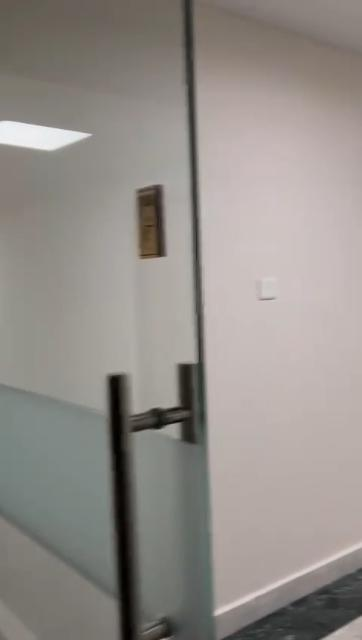floor: (231, 579, 361, 640)
wall: (213, 1, 362, 570)
